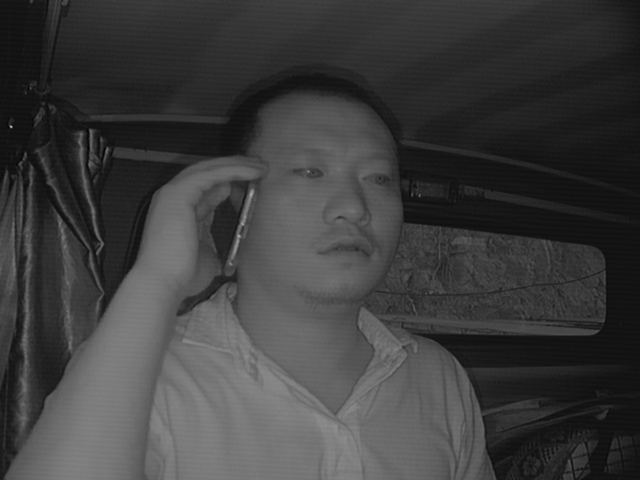hand: (146, 151, 263, 293)
